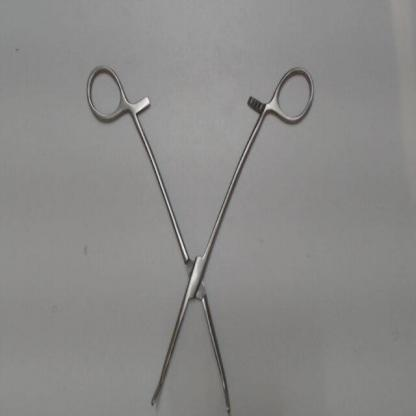Lahey Forceps: (78, 59, 322, 413)
